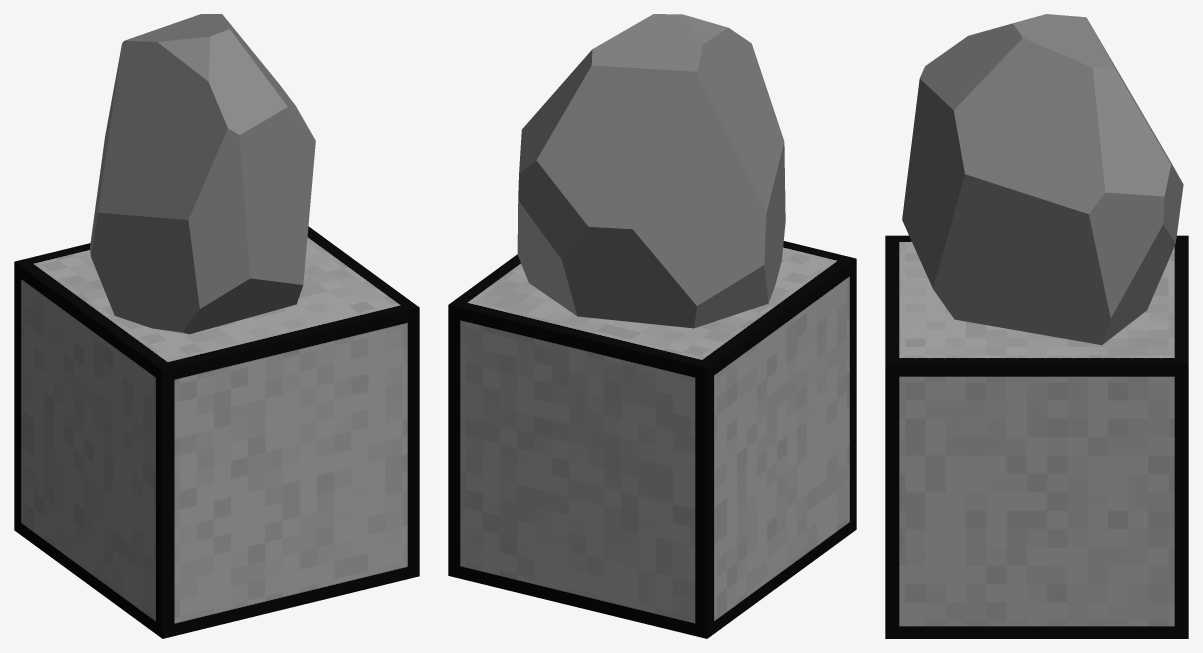
Rendered from RockHigh2Stone.glb.
The picture shows the model from 3 angles, left to right: view 1: azimuth 30°, elevation 25°; view 2: azimuth 150°, elevation 25°; view 3: azimuth 270°, elevation 25°; orthographic projection. The views are drawn at different scales.
Parts seen in each view (by area): view 1: Stone_v2Baked, Sphere.003; view 2: Stone_v2Baked, Sphere.003; view 3: Stone_v2Baked, Sphere.003.
Boxes of the visible parts, left/top/right/bottom form: Stone_v2Baked: left=14, top=226, right=419, bottom=638; Sphere.003: left=90, top=14, right=315, bottom=334; Stone_v2Baked: left=448, top=241, right=856, bottom=638; Sphere.003: left=517, top=14, right=785, bottom=328; Stone_v2Baked: left=885, top=235, right=1188, bottom=638; Sphere.003: left=902, top=14, right=1183, bottom=344.
Bounding box in the file's own units: 0.98 × 1.93 × 0.98.
Materials: 2 (1 with a texture image).
